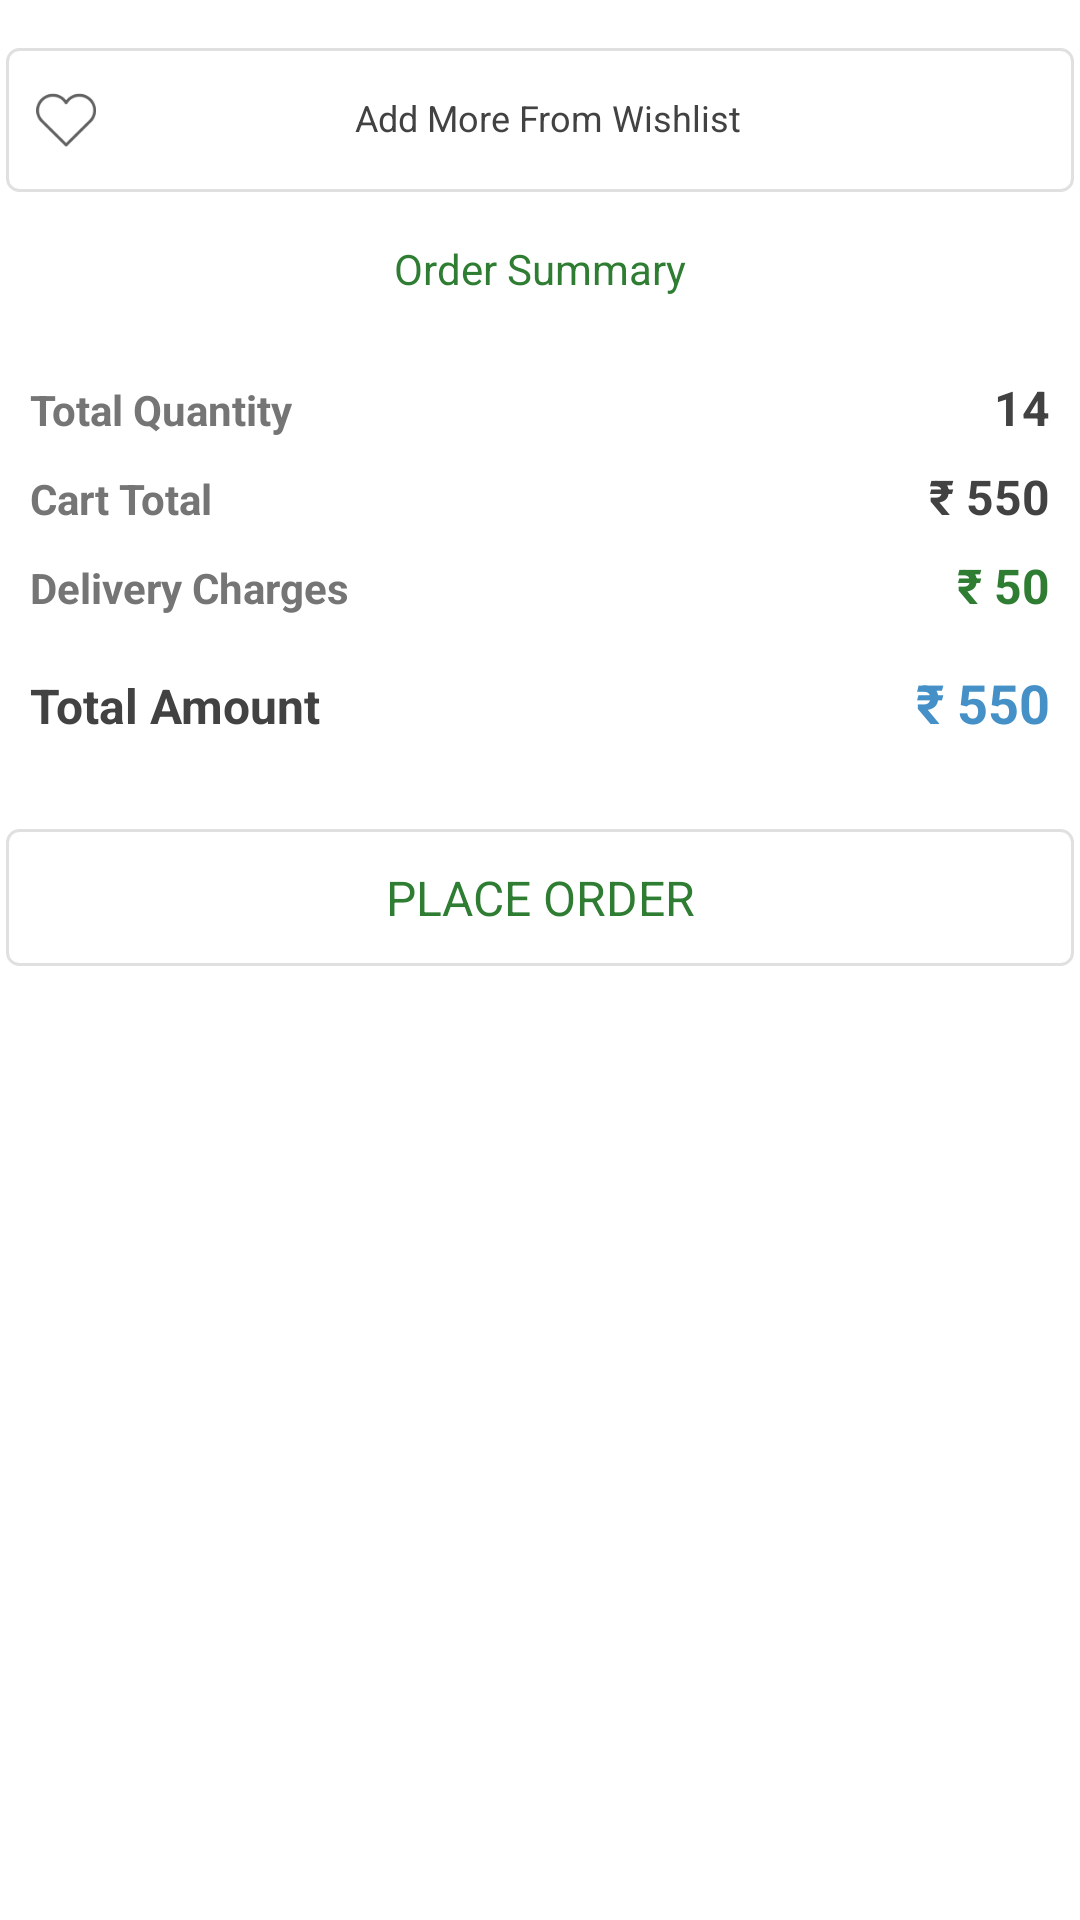

Icon click points for this 1080w x 1920h phone screenshot, format point (x, y):
favourite: point (66, 120)
